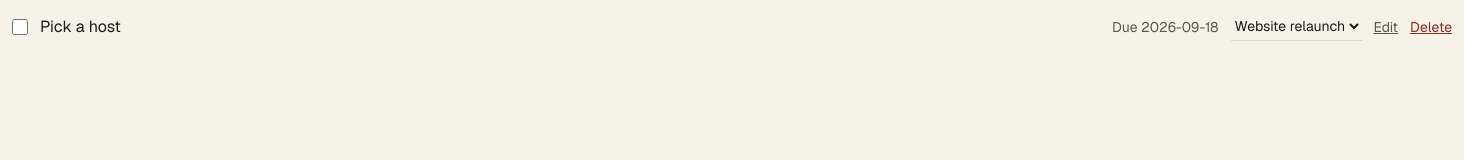
Scenario: TaskList › edits a task's title and due date together
The image size is (1464, 160).
Click the button named "Edit “Pick a host”" at (1386, 26), box [1374,16,1398,36]
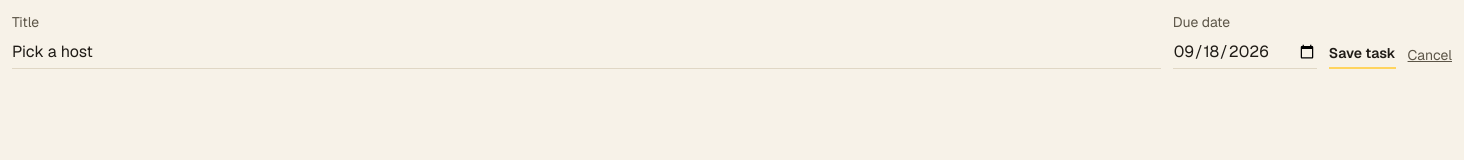
Replace the text in the field labelled "Title" with "Pick a hosting plan" at (586, 52), box [12,36,1161,69]
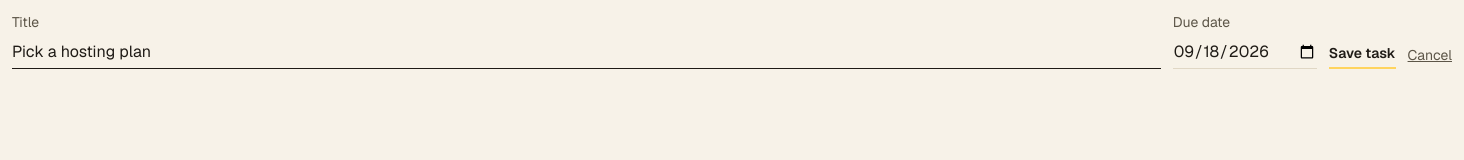
Type "2026-09-25" into the date field labelled "Due date" at (1245, 52), box [1173,36,1317,69]
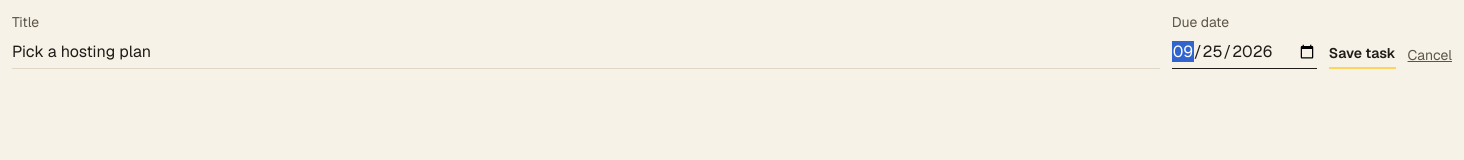
Click the button "Save task" at (1362, 54), box [1329,39,1396,69]
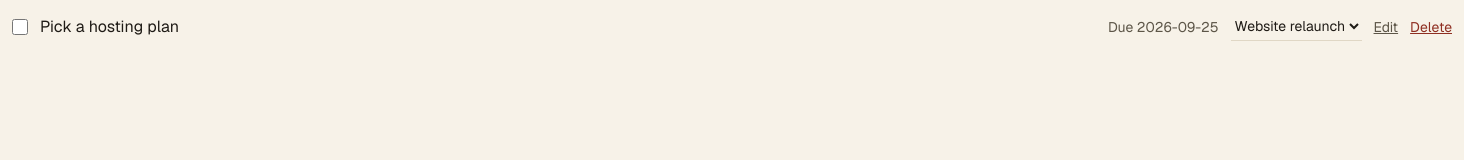
Now the checkbox labelled "Pick a hosting plan" is shown, box [12,18,28,34]
Now the text "Due 2026-09-25" is shown, box [1108,16,1219,36]
